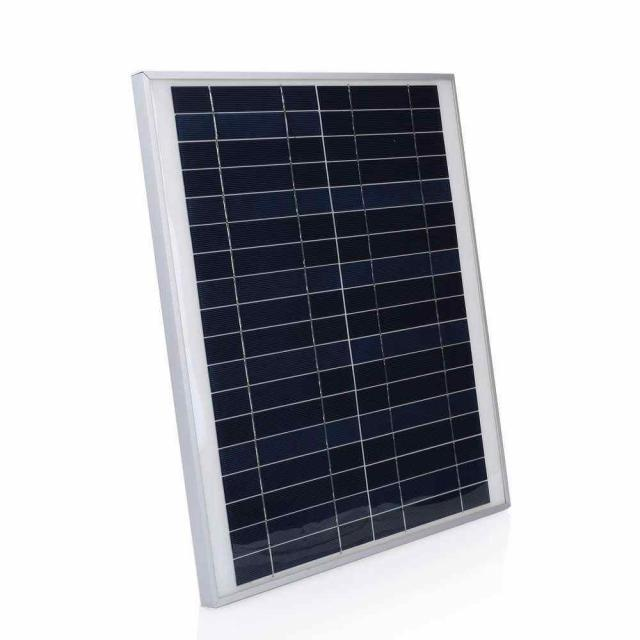no faulty: (171, 80, 499, 566)
